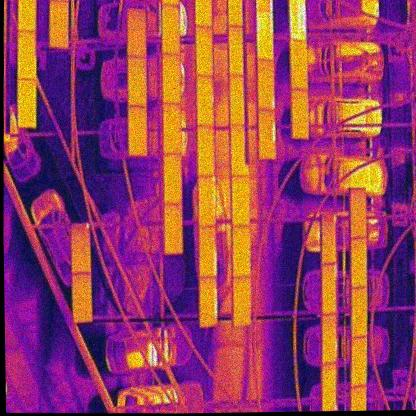Diode: (256, 57, 276, 113), (197, 276, 218, 327), (196, 176, 216, 228), (256, 108, 276, 159), (197, 226, 217, 276), (255, 10, 274, 62), (320, 263, 337, 314), (288, 0, 307, 40)
Hotspot: (70, 223, 92, 272), (195, 75, 214, 129)
Normal: (70, 272, 93, 323), (161, 102, 182, 154), (230, 225, 251, 277), (193, 25, 214, 77), (16, 29, 37, 81), (126, 55, 147, 106), (161, 154, 182, 205), (47, 0, 69, 48), (16, 77, 37, 127), (127, 106, 148, 156), (162, 204, 183, 254), (195, 125, 215, 177), (348, 236, 368, 288), (160, 3, 180, 55), (288, 39, 308, 91), (161, 53, 181, 104), (231, 275, 251, 326), (126, 7, 146, 58), (230, 174, 249, 227), (347, 188, 367, 238), (227, 73, 245, 127), (229, 123, 247, 177), (349, 287, 368, 338), (226, 24, 244, 77), (290, 87, 308, 139), (319, 214, 337, 265), (320, 314, 337, 365), (350, 336, 366, 387), (320, 363, 337, 411)
